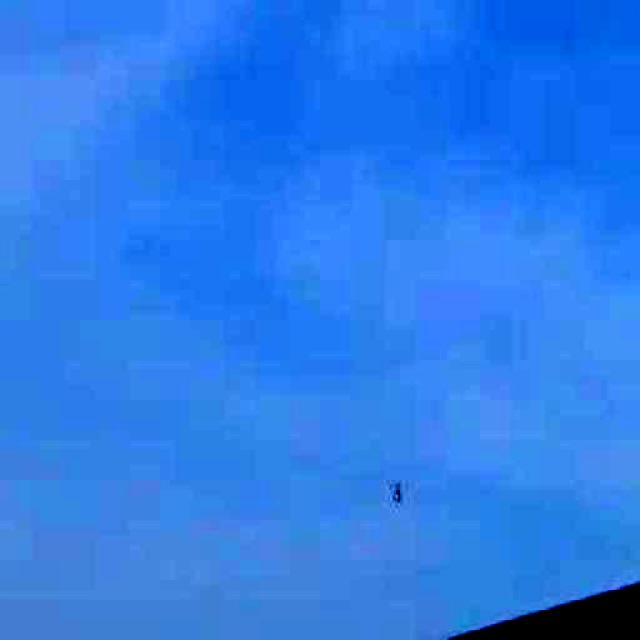drone: (375, 461, 422, 521)
